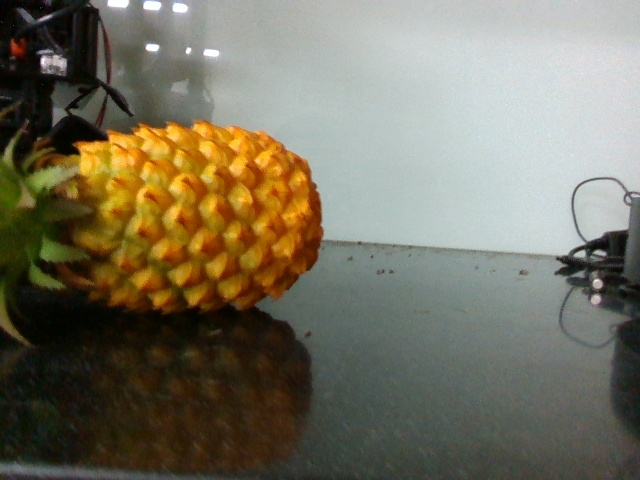pineapple: (1, 120, 330, 320)
